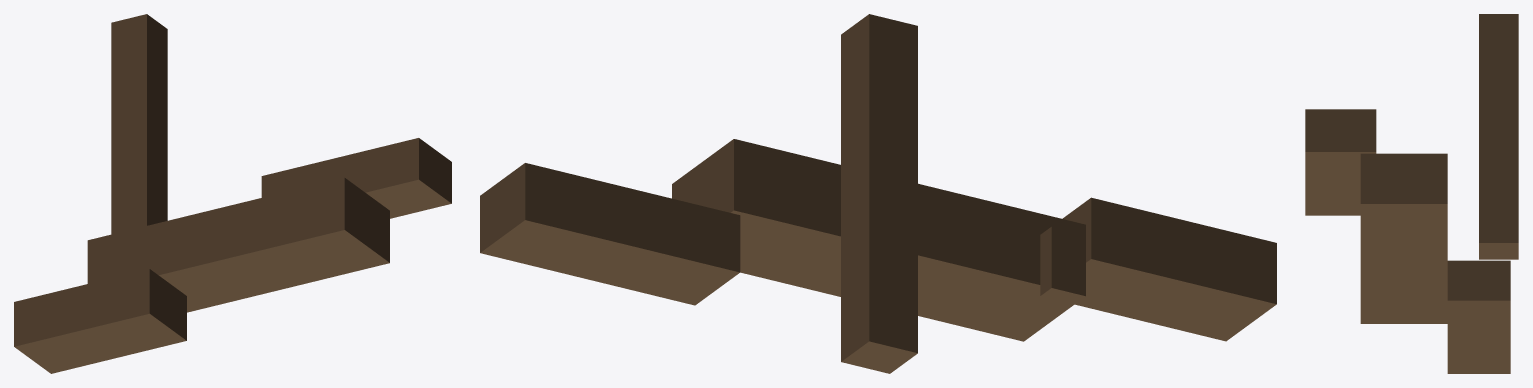
The model's file is SM_HarlowWreckage_Alpha.gltf.
3 views of the same model, side by side, from view 1: azimuth 30°, elevation 25°; view 2: azimuth 150°, elevation 25°; view 3: azimuth 270°, elevation 25° (orthographic). The views are drawn at different scales.
Parts seen in each view (by area): view 1: SM_HarlowWreckage_Alpha; view 2: SM_HarlowWreckage_Alpha; view 3: SM_HarlowWreckage_Alpha.
Boxes of the visible parts, box(x1,y1,x2,y2) form: SM_HarlowWreckage_Alpha: box(14, 14, 451, 373); SM_HarlowWreckage_Alpha: box(480, 14, 1276, 373); SM_HarlowWreckage_Alpha: box(1305, 14, 1518, 373).
Size of the model in its own units: 6.65 by 3.2 by 2.7.
